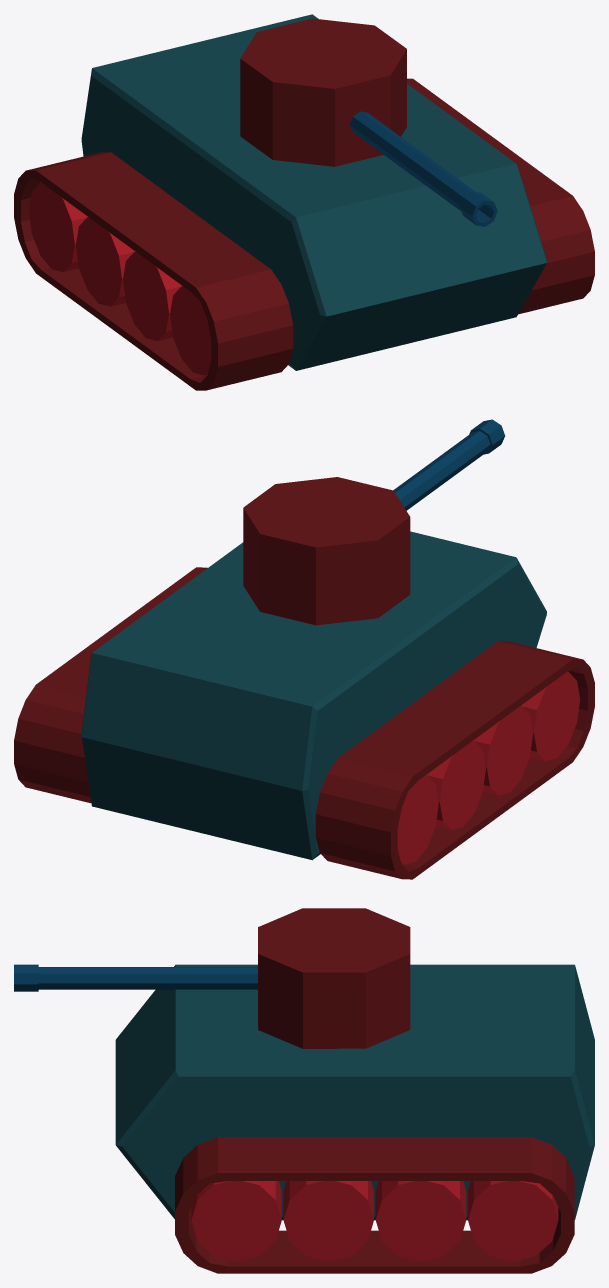
Rendered from Tank_1.glb.
3 views of the same model, one above another, from view 1: azimuth 30°, elevation 25°; view 2: azimuth 150°, elevation 25°; view 3: azimuth 270°, elevation 25° (orthographic). The views are drawn at different scales.
Visible parts, largest first — view 1: Body, Track L, Turret, Track R, Gun, Wheel L 2, Wheel L 4, Wheel L 1, Wheel L 3; view 2: Body, Track L, Turret, Track R, Wheel L 3, Wheel L 4, Wheel L 1, Gun, Wheel L 2; view 3: Body, Track R, Turret, Wheel R 4, Wheel R 1, Wheel R 3, Wheel R 2, Gun.
Part boxes in pixels (bbox=[...]): Body: bbox=[81, 14, 546, 370]; Track L: bbox=[14, 152, 293, 390]; Turret: bbox=[240, 18, 406, 166]; Track R: bbox=[407, 78, 594, 314]; Gun: bbox=[350, 111, 497, 226]; Wheel L 2: bbox=[28, 182, 87, 272]; Wheel L 4: bbox=[76, 217, 135, 306]; Wheel L 1: bbox=[123, 251, 181, 340]; Wheel L 3: bbox=[170, 286, 211, 375]; Body: bbox=[81, 531, 546, 860]; Track L: bbox=[315, 641, 594, 879]; Turret: bbox=[243, 477, 410, 625]; Track R: bbox=[14, 567, 207, 803]; Wheel L 3: bbox=[521, 671, 579, 760]; Wheel L 4: bbox=[426, 740, 485, 829]; Wheel L 1: bbox=[473, 706, 532, 795]; Gun: bbox=[393, 419, 505, 510]; Wheel L 2: bbox=[397, 775, 438, 864]; Body: bbox=[115, 964, 594, 1220]; Track R: bbox=[175, 1137, 574, 1273]; Turret: bbox=[258, 908, 410, 1048]; Wheel R 4: bbox=[375, 1181, 466, 1261]; Wheel R 1: bbox=[283, 1181, 373, 1261]; Wheel R 3: bbox=[191, 1181, 281, 1261]; Wheel R 2: bbox=[468, 1181, 558, 1261]; Gun: bbox=[14, 964, 257, 991].
Bounding box in the file's own units: 2.13 × 1.34 × 2.91.
1 material, 1 textured.
